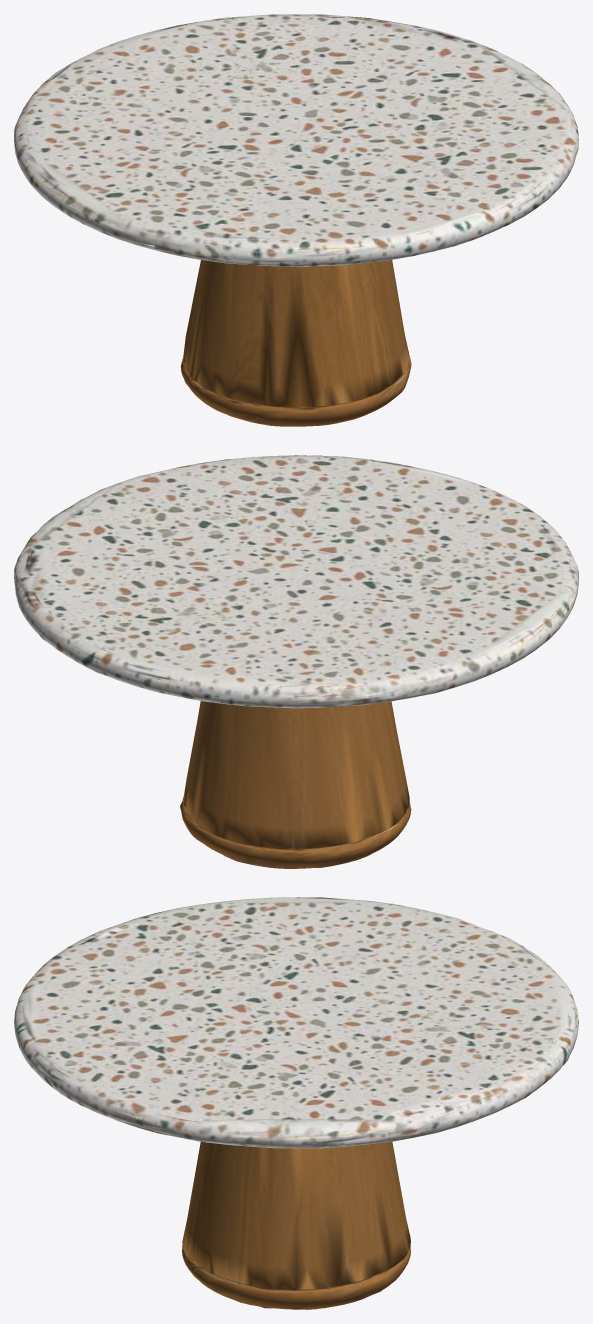
The model's file is coffee_table_terrazzo.glb.
3 renders of one model, top to bottom at view 1: azimuth 30°, elevation 25°; view 2: azimuth 150°, elevation 25°; view 3: azimuth 270°, elevation 25°, orthographic.
Visible parts, largest first — view 1: prop; view 2: prop; view 3: prop.
Part boxes in pixels (x1,y1,x2,y2): prop: (14,14,578,426); prop: (14,455,578,868); prop: (14,897,578,1309).
Size of the model in its own units: 0.9 by 0.4551 by 0.8996.
1 material, 1 textured.
